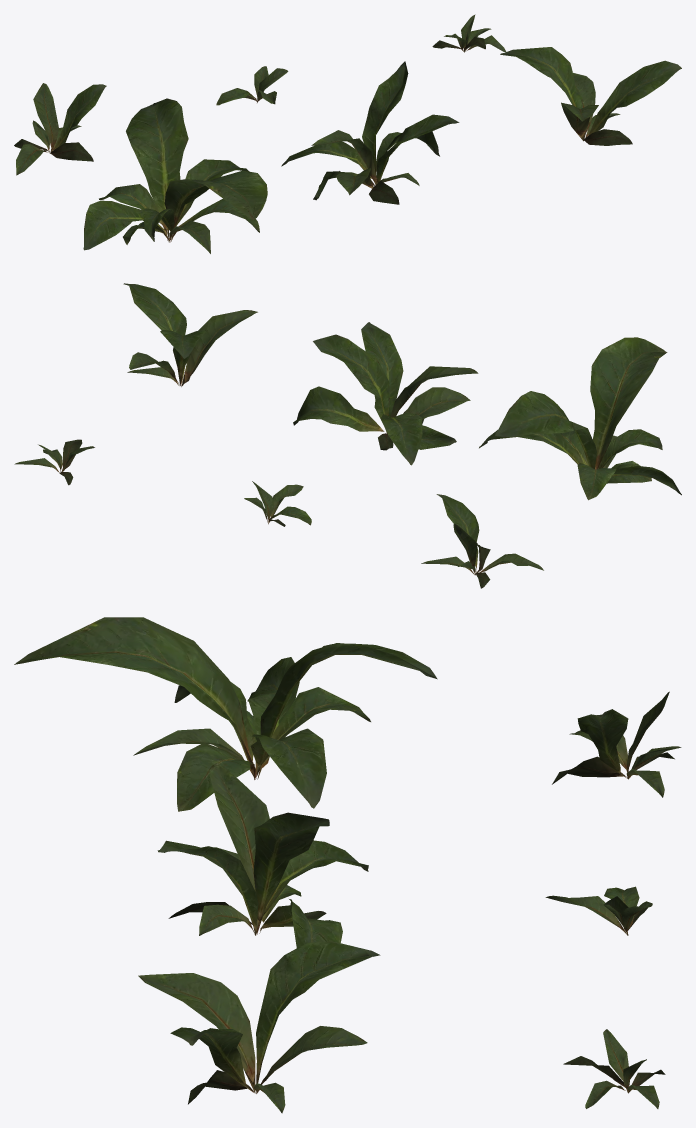
Rendered from anthurium.glb.
The picture shows the model from 3 angles, top to bottom: view 1: azimuth 30°, elevation 25°; view 2: azimuth 150°, elevation 25°; view 3: azimuth 270°, elevation 25°; orthographic projection. The views are drawn at different scales.
Visible parts, largest first — view 1: anthurium_botany_01_a; view 2: anthurium_botany_01_a; view 3: anthurium_botany_01_a.
Boxes of the visible parts, x1,y1,x2,y2 form: anthurium_botany_01_a: (14,14,681,253); anthurium_botany_01_a: (14,283,681,588); anthurium_botany_01_a: (14,617,681,1113).
Size of the model in its own units: 2.79 by 0.4982 by 1.8.
Materials: 1 (1 with a texture image).
